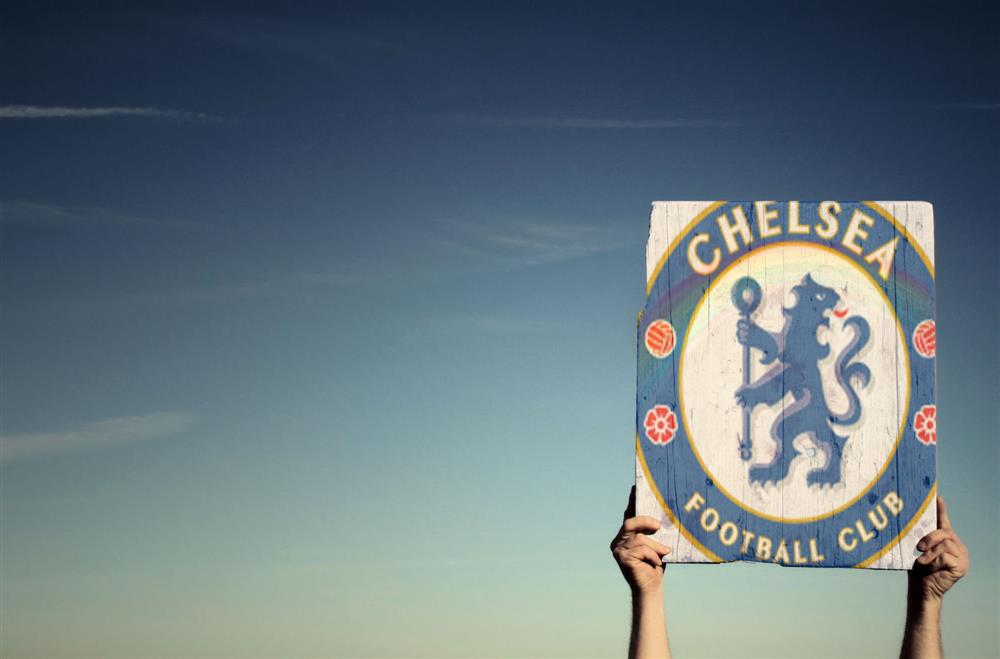chelsea: (638, 202, 934, 562)
